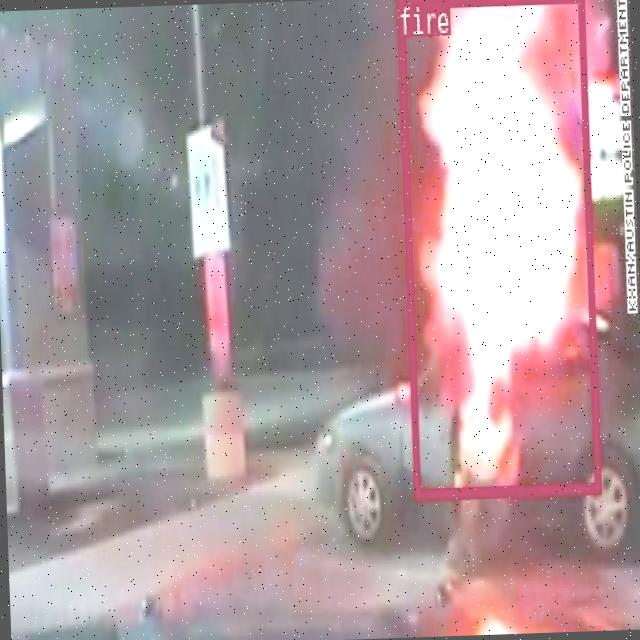fire: (395, 0, 599, 496)
